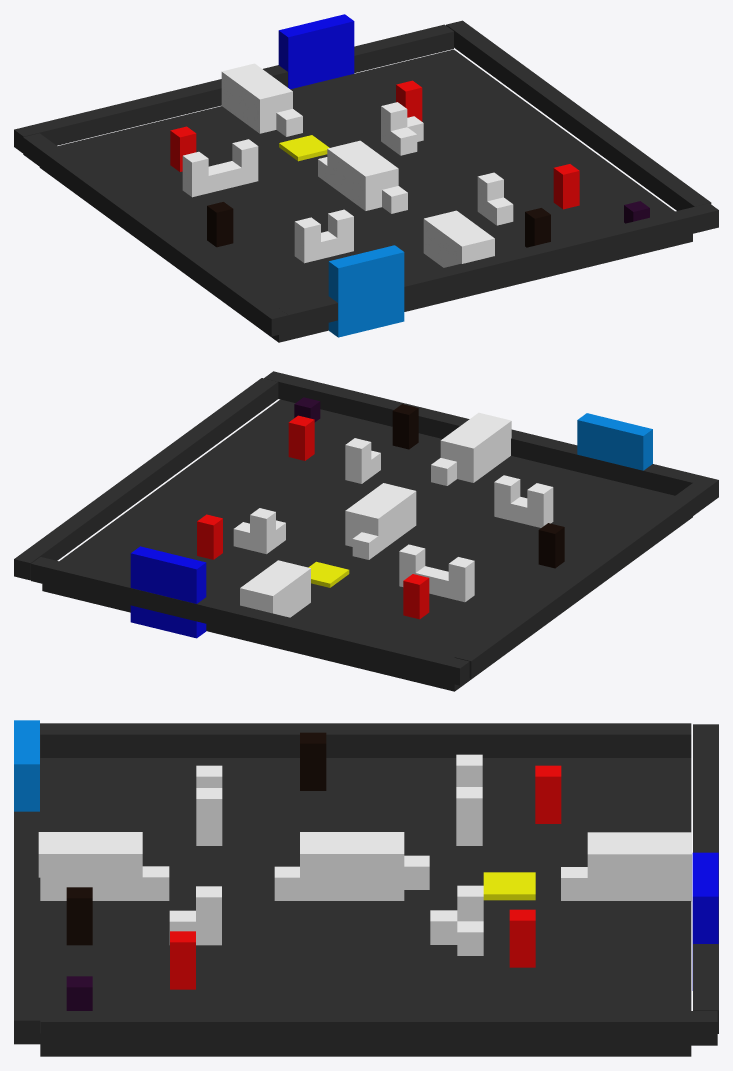
The model's file is level1_b05_25.FBX.
3 views of the same model, one above another, from view 1: azimuth 30°, elevation 25°; view 2: azimuth 150°, elevation 25°; view 3: azimuth 270°, elevation 25° (orthographic). The views are drawn at different scales.
Parts seen in each view (by area): view 1: Box001, Box002, Box003, Box005, Box006, Box004, Box007, Box010, Box008, Box009, StormTrooper003, Blurg001 (+4 smaller); view 2: Box001, Box003, Box004, Box005, Box002, Box006, Box007, Box010, Box008, Box009, Blurg001, StormTrooper001 (+4 smaller); view 3: Box001, Box005, Box006, Box004, Box008, Box003, Box007, Box002, Box010, Box009, Blurg001, StormTrooper001 (+5 smaller).
Boxes of the visible parts, x1=… form: Box001: x1=14, y1=20, x2=718, y2=342; Box002: x1=328, y1=245, x2=404, y2=337; Box003: x1=278, y1=14, x2=354, y2=89; Box005: x1=318, y1=140, x2=407, y2=213; Box006: x1=221, y1=63, x2=302, y2=136; Box004: x1=423, y1=210, x2=494, y2=267; Box007: x1=182, y1=139, x2=258, y2=197; Box010: x1=294, y1=209, x2=353, y2=263; Box008: x1=381, y1=102, x2=423, y2=155; Box009: x1=477, y1=172, x2=513, y2=225; StormTrooper003: x1=553, y1=164, x2=579, y2=209; Blurg001: x1=207, y1=202, x2=233, y2=247; Box001: x1=14, y1=371, x2=718, y2=691; Box003: x1=130, y1=546, x2=206, y2=638; Box004: x1=431, y1=412, x2=511, y2=485; Box005: x1=345, y1=483, x2=416, y2=559; Box002: x1=577, y1=413, x2=652, y2=470; Box006: x1=240, y1=560, x2=310, y2=617; Box007: x1=399, y1=544, x2=474, y2=602; Box010: x1=494, y1=475, x2=553, y2=527; Box008: x1=233, y1=508, x2=285, y2=554; Box009: x1=345, y1=438, x2=380, y2=483; Blurg001: x1=538, y1=523, x2=564, y2=568; StormTrooper001: x1=403, y1=574, x2=429, y2=619; Box001: x1=14, y1=723, x2=718, y2=1056; Box005: x1=274, y1=832, x2=429, y2=900; Box006: x1=561, y1=832, x2=691, y2=901; Box004: x1=38, y1=832, x2=169, y2=900; Box008: x1=430, y1=885, x2=483, y2=955; Box003: x1=692, y1=852, x2=718, y2=990; Box007: x1=456, y1=754, x2=482, y2=845; Box002: x1=14, y1=720, x2=39, y2=811; Box010: x1=196, y1=765, x2=222, y2=845; Box009: x1=169, y1=886, x2=221, y2=945; Blurg001: x1=300, y1=732, x2=326, y2=790; StormTrooper001: x1=535, y1=765, x2=561, y2=823.
Bounding box in the file's own units: 1068 × 158 × 1066.
